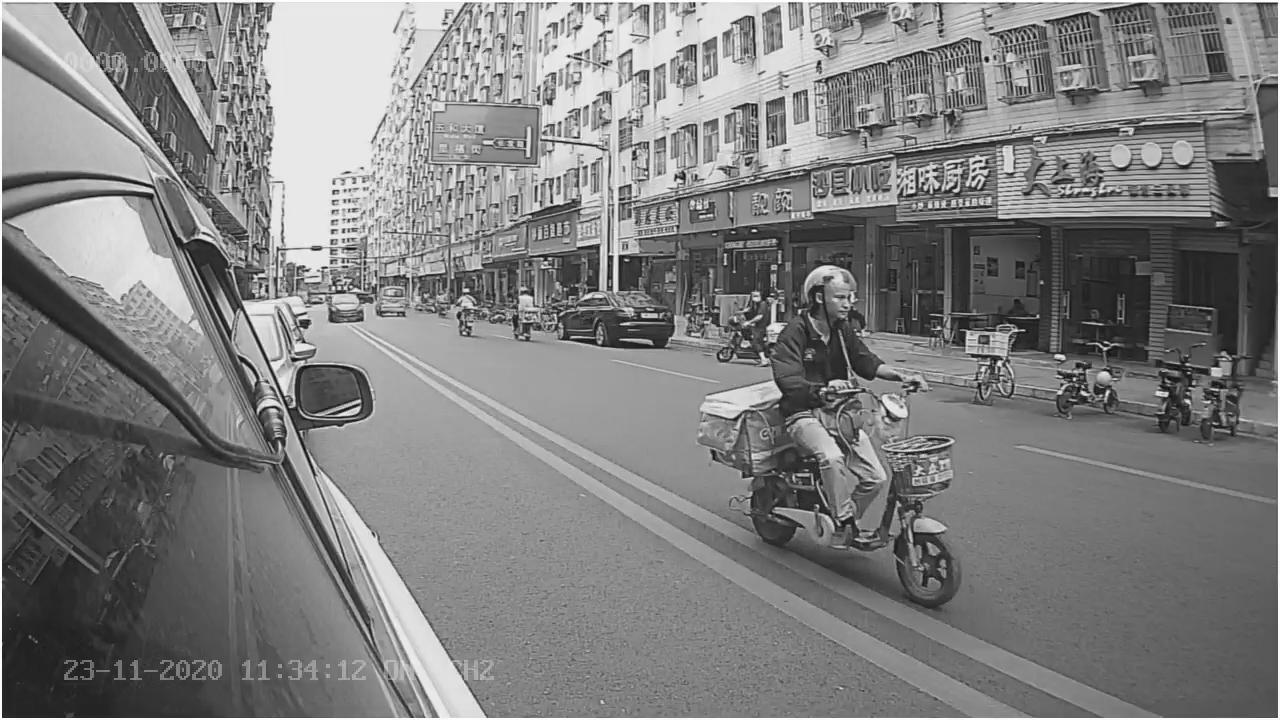person: (775, 259, 897, 397)
